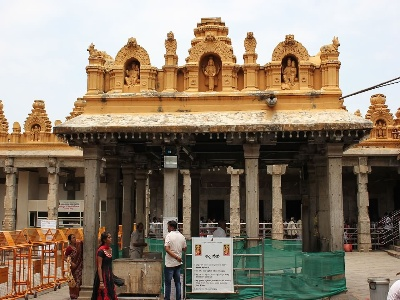mandapa: (56, 72, 375, 253)
